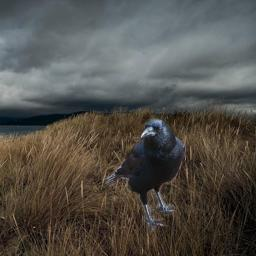Crow: (98, 113, 186, 233)
